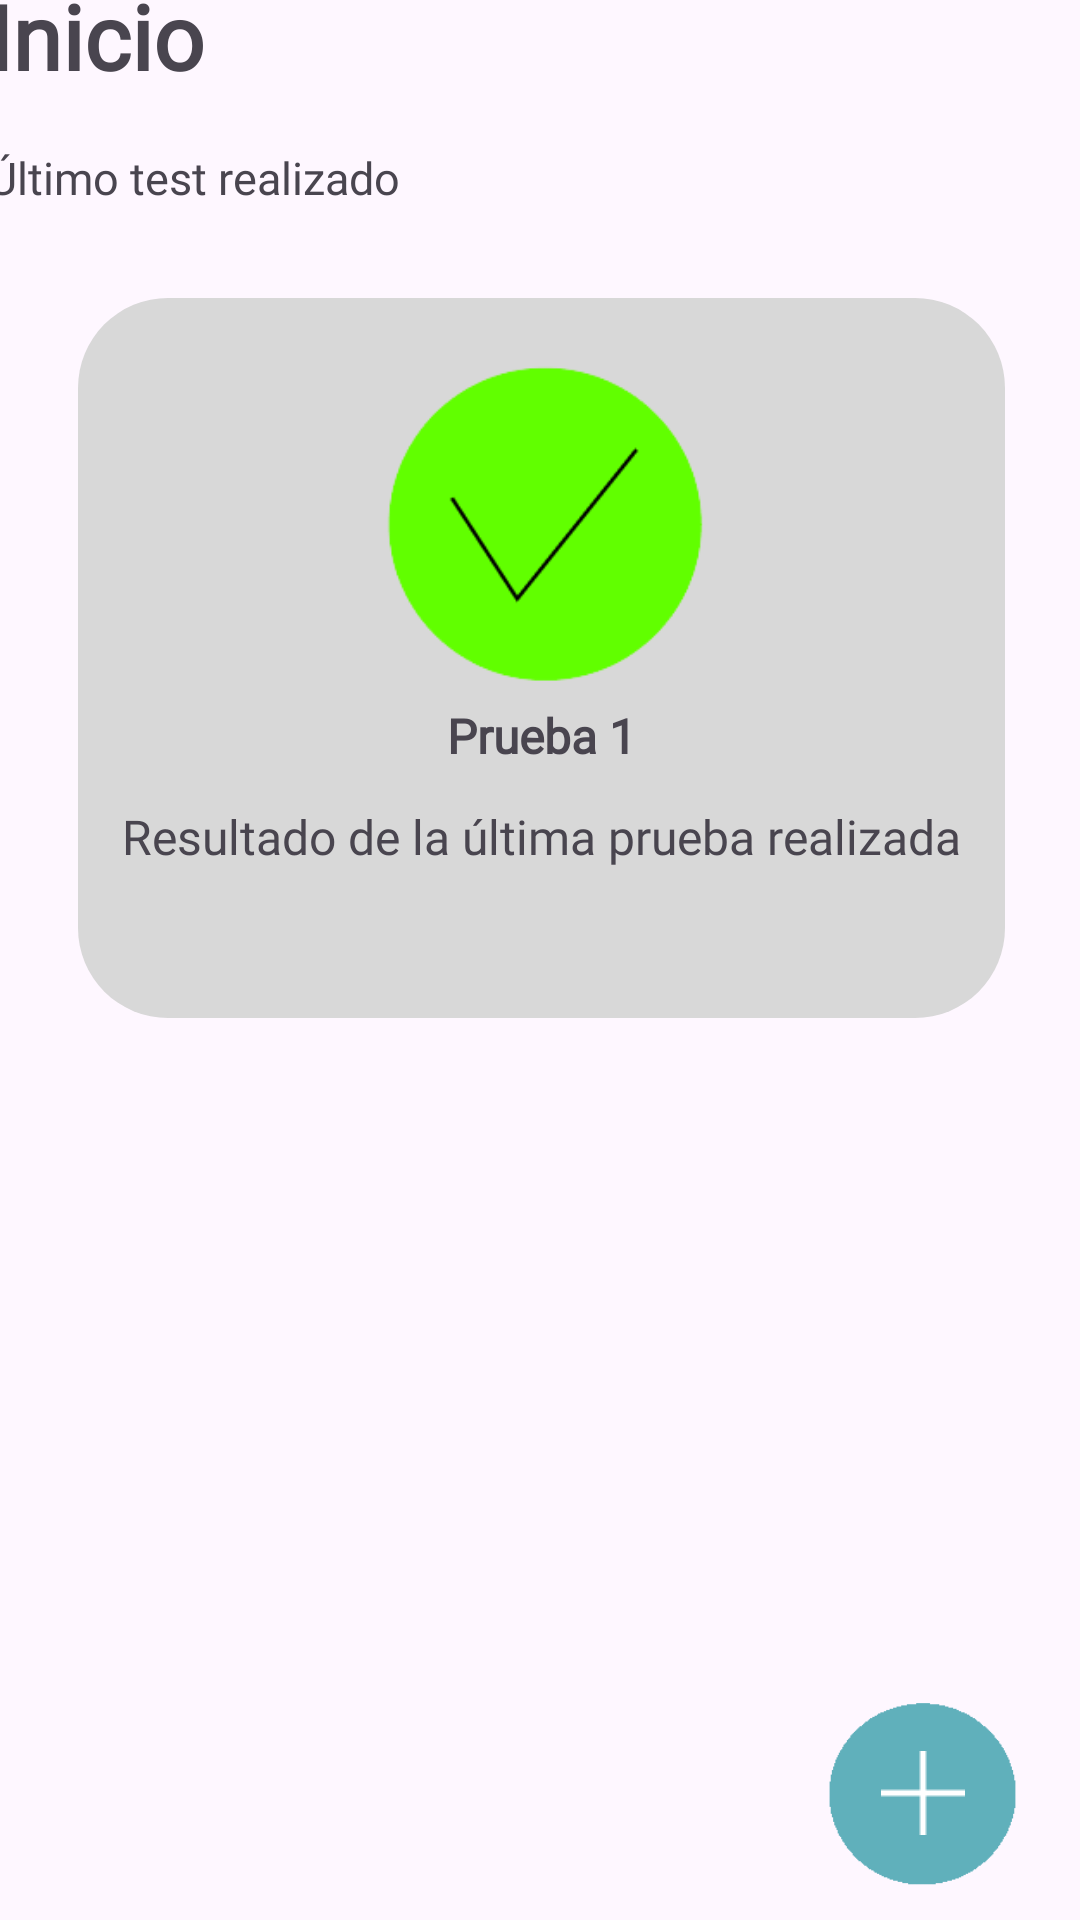

Locate icon controls on the screen. Image size 1080×1920, boxes as (x1, y1, x2, y2).
crear: (829, 1703, 1016, 1885)
